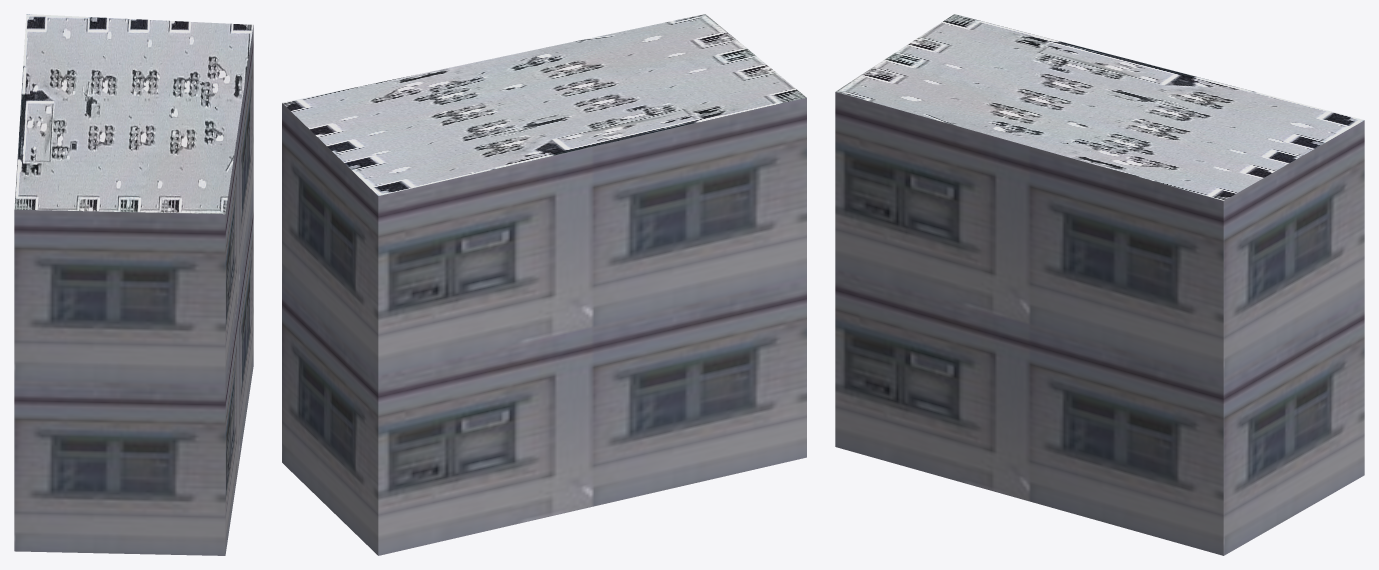
File: ResTex__3723.fbx
3 renders of one model, left to right at view 1: azimuth 30°, elevation 25°; view 2: azimuth 150°, elevation 25°; view 3: azimuth 270°, elevation 25°, orthographic. The views are drawn at different scales.
Visible parts, largest first — view 1: CityEngineMaterial_1_m, CityEngineMaterial_8_m; view 2: CityEngineMaterial_1_m, CityEngineMaterial_8_m; view 3: CityEngineMaterial_1_m, CityEngineMaterial_8_m.
Part boxes in pixels (x1,y1,x2,y2): CityEngineMaterial_1_m: [14, 25, 253, 555]; CityEngineMaterial_8_m: [14, 14, 253, 214]; CityEngineMaterial_1_m: [282, 97, 806, 555]; CityEngineMaterial_8_m: [282, 14, 806, 195]; CityEngineMaterial_1_m: [835, 92, 1364, 555]; CityEngineMaterial_8_m: [835, 14, 1364, 200].
Size of the model in its own units: 6.78 by 6 by 8.11.
Materials: 2 (2 with a texture image).
